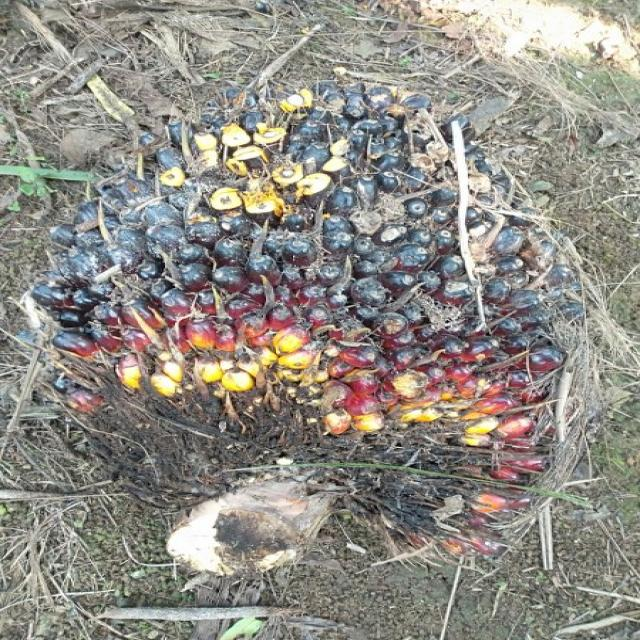fraksi 00: (23, 75, 603, 585)
